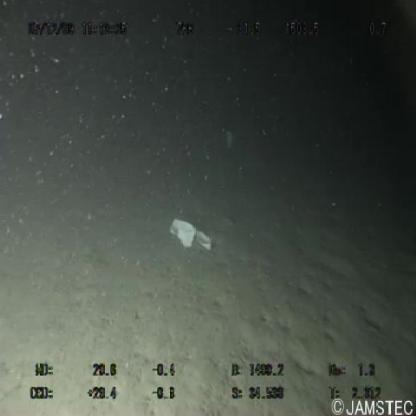Rác: (166, 213, 216, 260)
